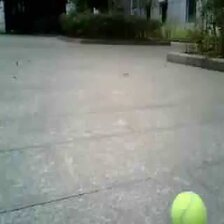tennis: (171, 190, 209, 224)
